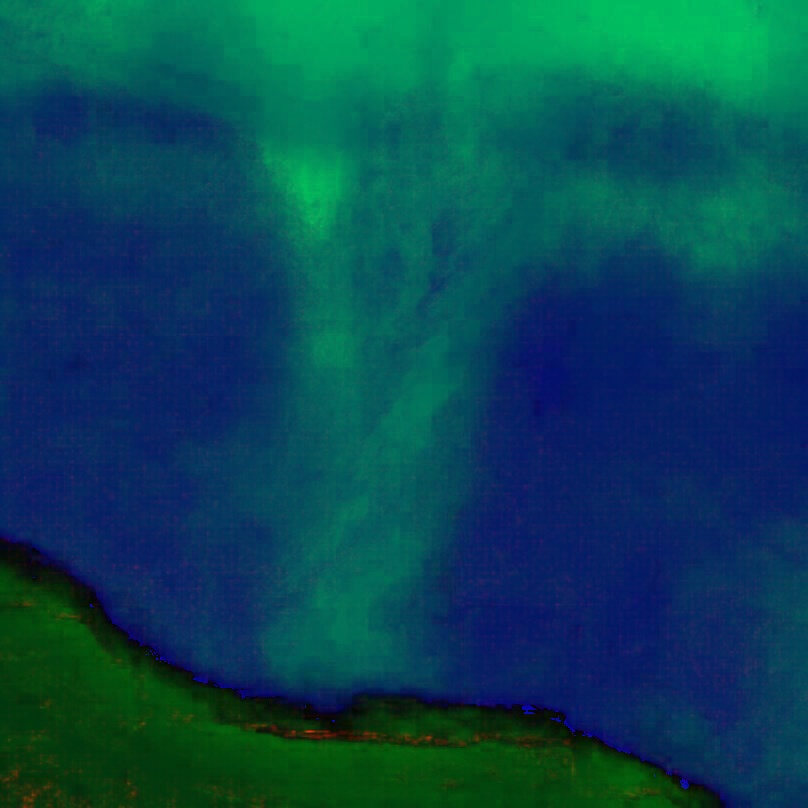rip_current: (222, 125, 556, 726)
